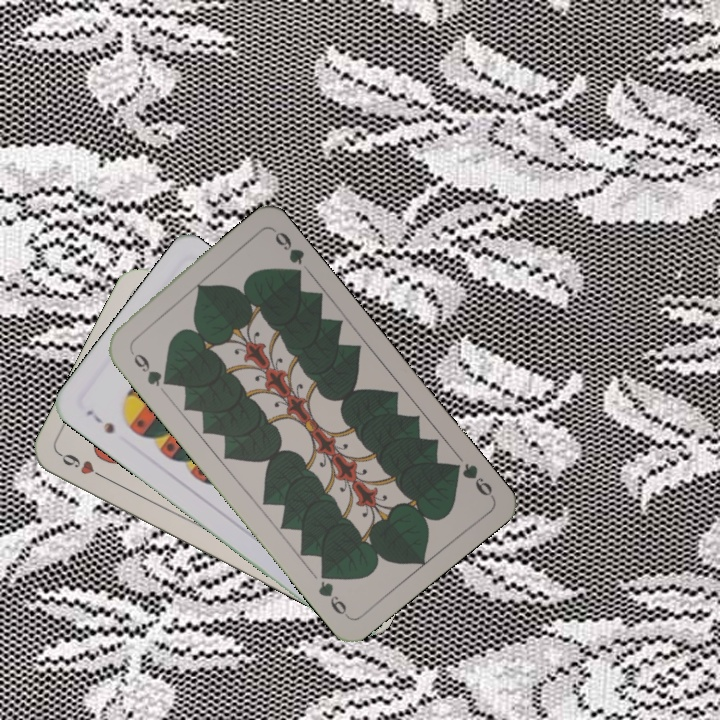G9: (125, 344, 173, 390), (445, 458, 496, 500)
H9: (55, 449, 110, 483)
S7: (82, 406, 117, 437)
